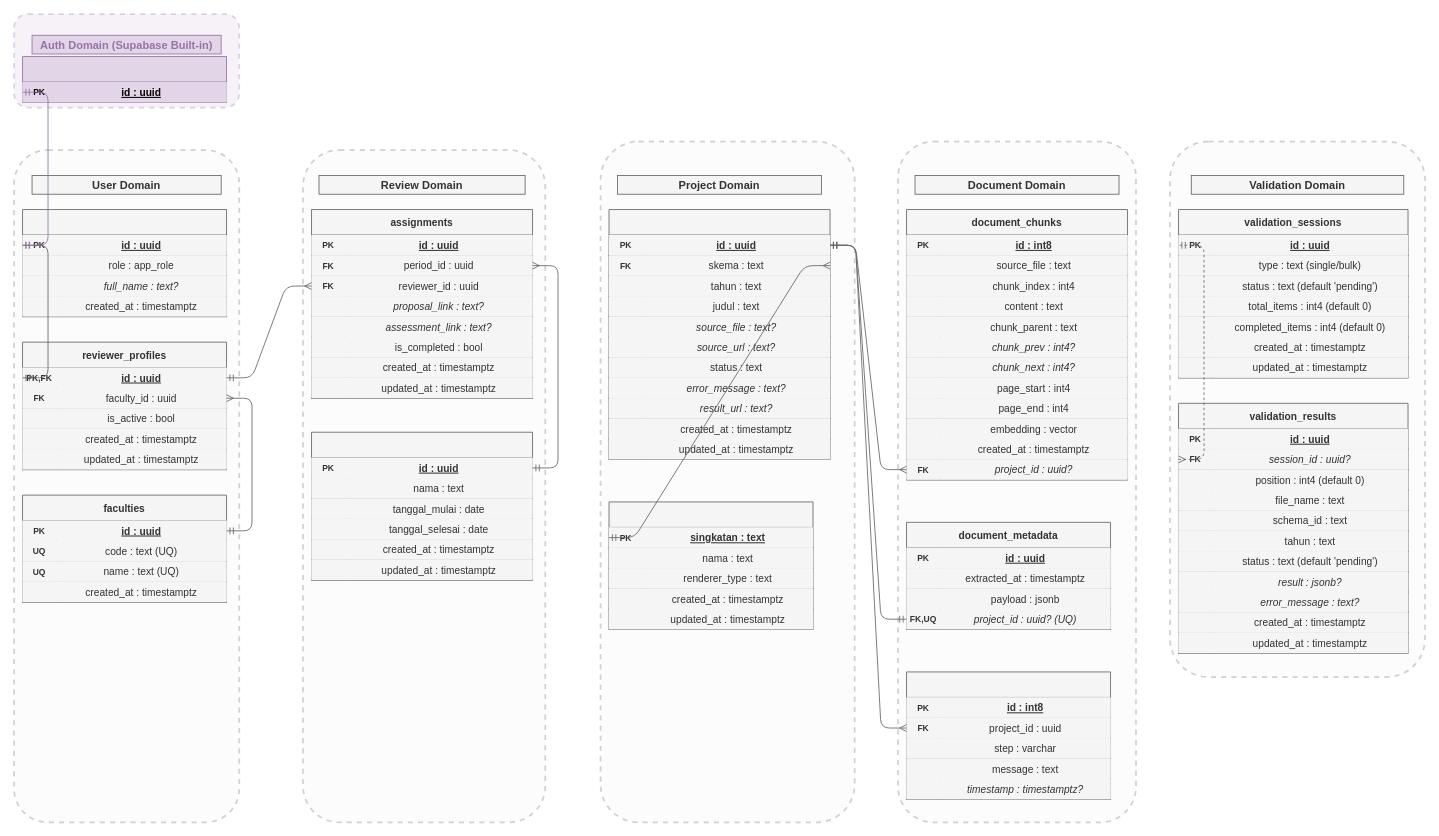
Image size: 1439x836. Some labels were removed from this diagram. The box of each missing label's shape, as (x1, y1, x2, y2) in pixels:
auth.users: (22, 56, 227, 102)
pkm_review_periods: (311, 431, 533, 580)
pkm_schemas: (608, 501, 813, 629)
profiles: (22, 209, 227, 317)
project_logs: (906, 671, 1111, 799)
projects: (608, 209, 830, 459)
